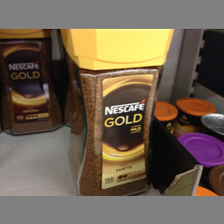coffee: (57, 30, 174, 196), (1, 30, 62, 136)
